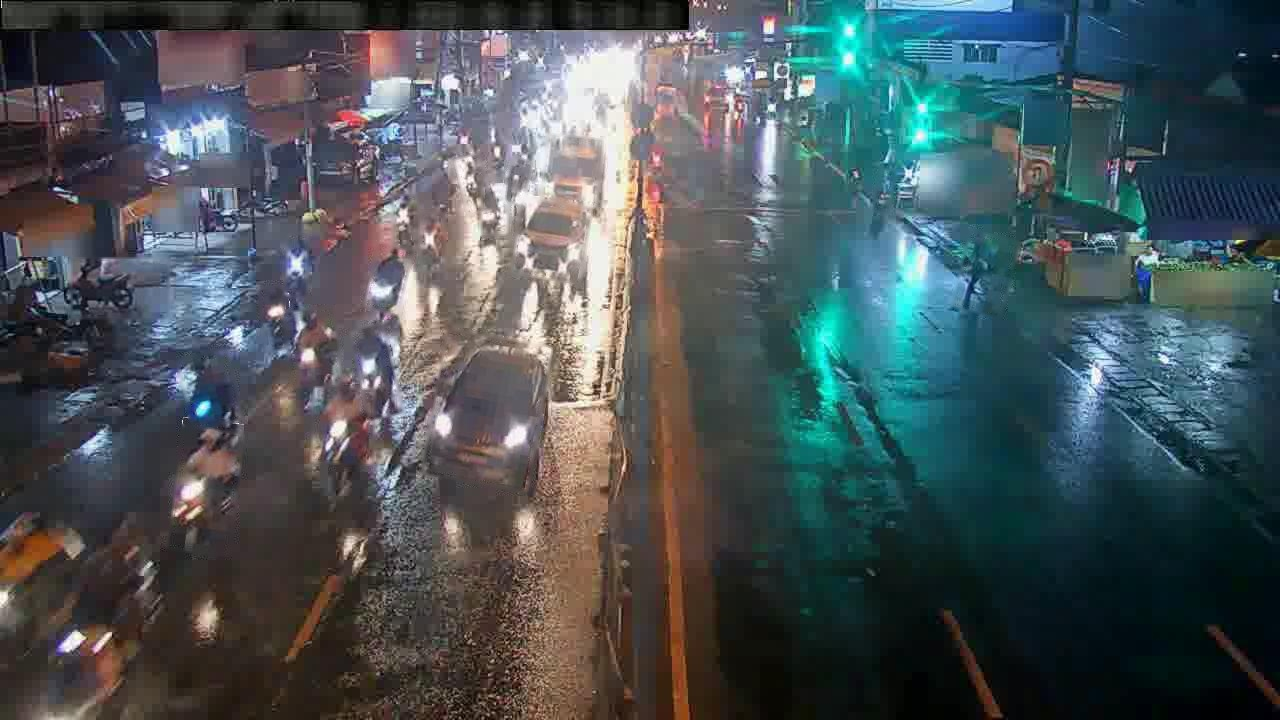Bus: (547, 137, 603, 210)
Car: (427, 343, 549, 496), (524, 198, 585, 249)
Motorcyclist: (171, 424, 240, 550), (960, 234, 1013, 312), (322, 389, 374, 464), (64, 260, 140, 311), (355, 324, 397, 415), (188, 357, 238, 428), (294, 312, 335, 390), (368, 249, 405, 314), (263, 289, 295, 349), (459, 157, 487, 209), (286, 237, 311, 292), (477, 184, 502, 239), (421, 216, 446, 270), (507, 158, 530, 203), (395, 197, 414, 244), (876, 169, 893, 212)
